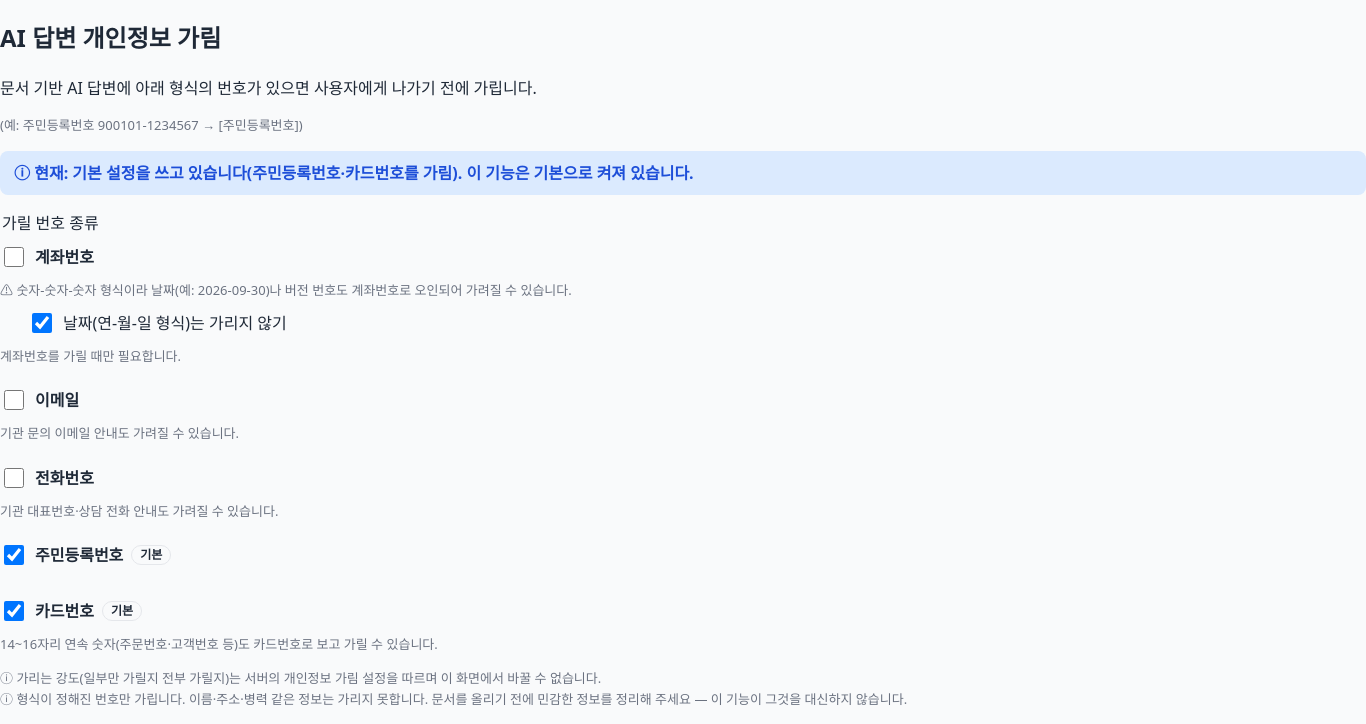
Test: 안전 가드레일 화면 — axe 접근성 스캔 › GR-3 약화 저장 확인 대화상자에 위반이 없다
Step 1. Click the checkbox labelled "주민등록번호 기본" → click(14, 555), box [4,545,24,565]
(page scrolled)
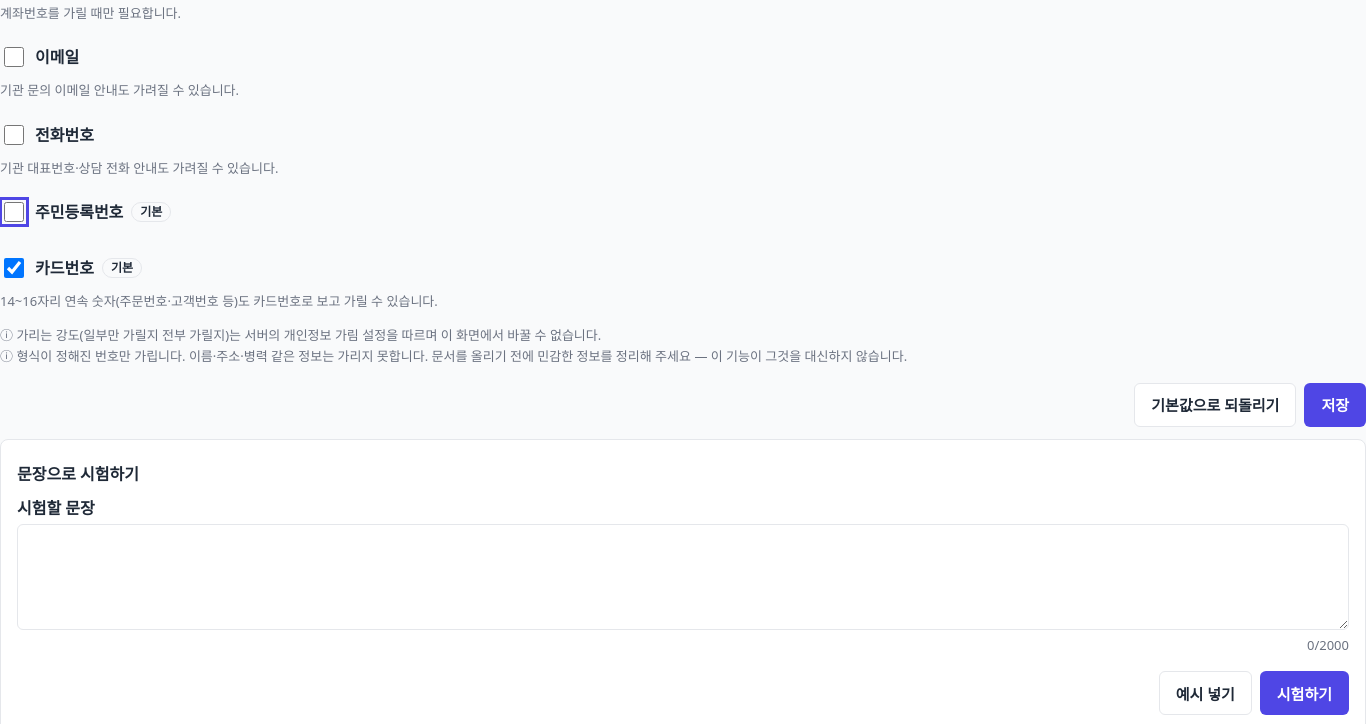
Step 2. Click the button "저장" → click(1335, 405), box [1304,383,1365,427]
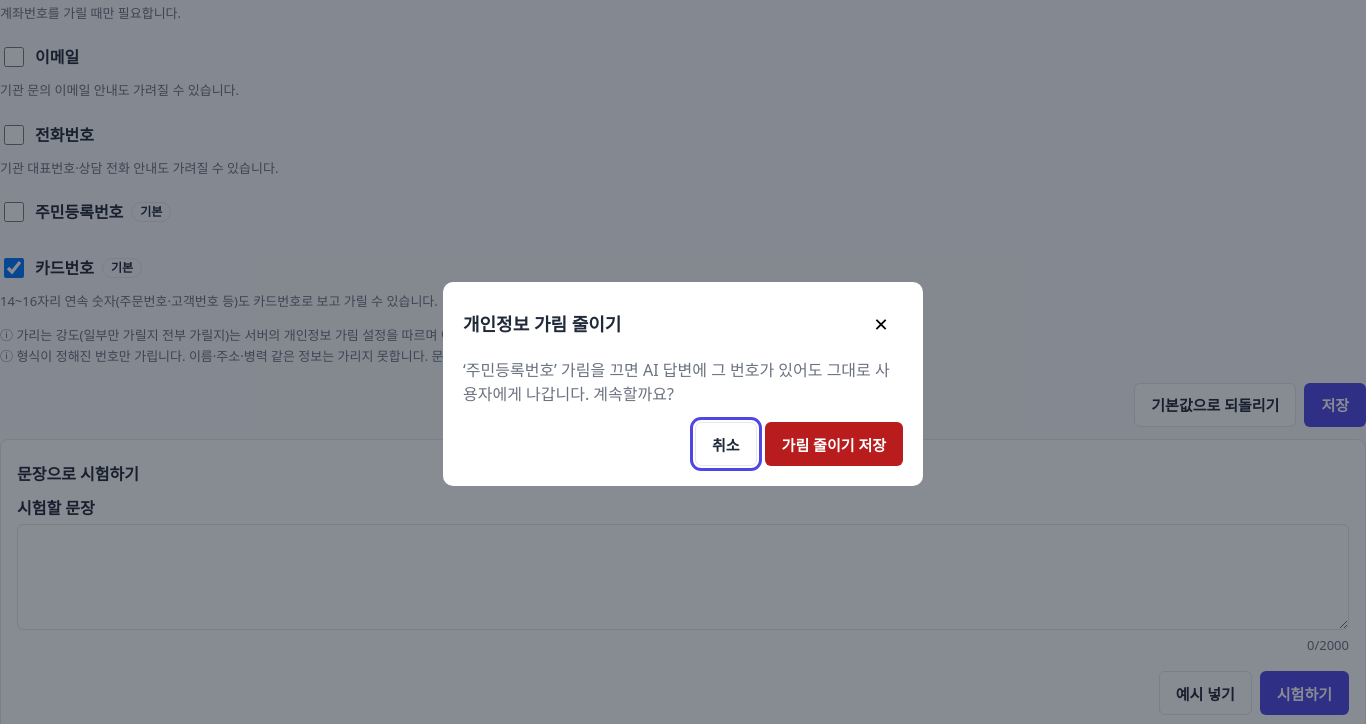
Expected: the dialog "개인정보 가림 줄이기" is shown, [443,282,923,486]
